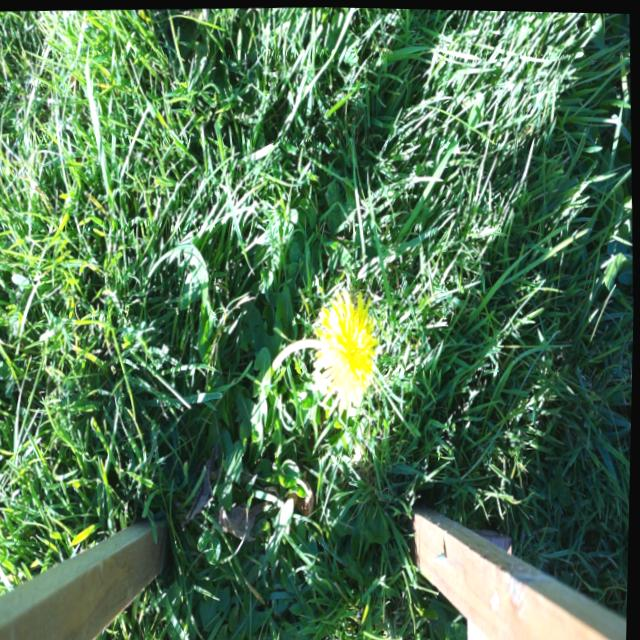base: (263, 347, 286, 386)
